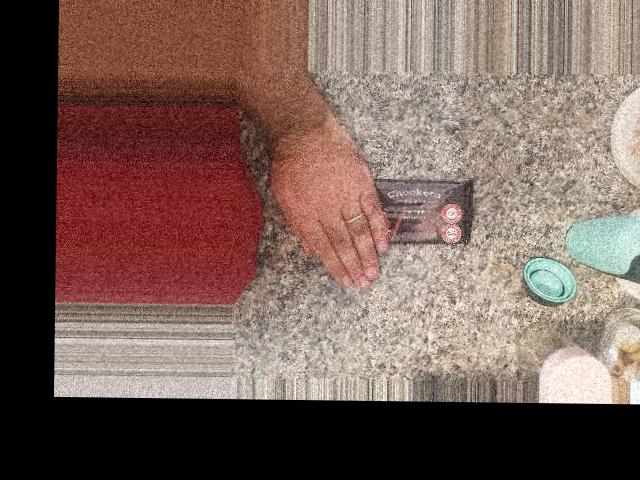chocolate: (320, 164, 478, 252)
